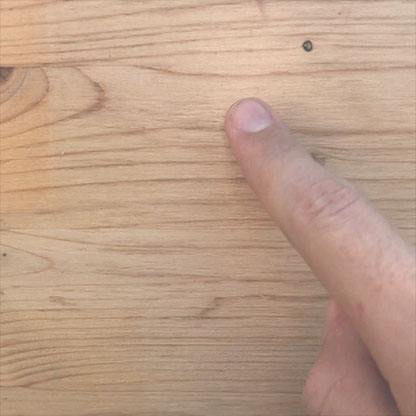fingertip: (216, 89, 291, 148)
